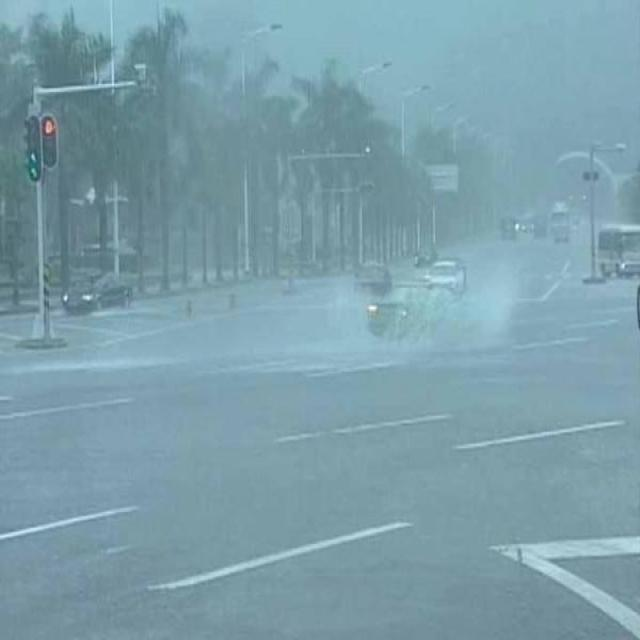car: (368, 288, 470, 334), (60, 268, 132, 315), (352, 257, 393, 299), (426, 260, 466, 298)
